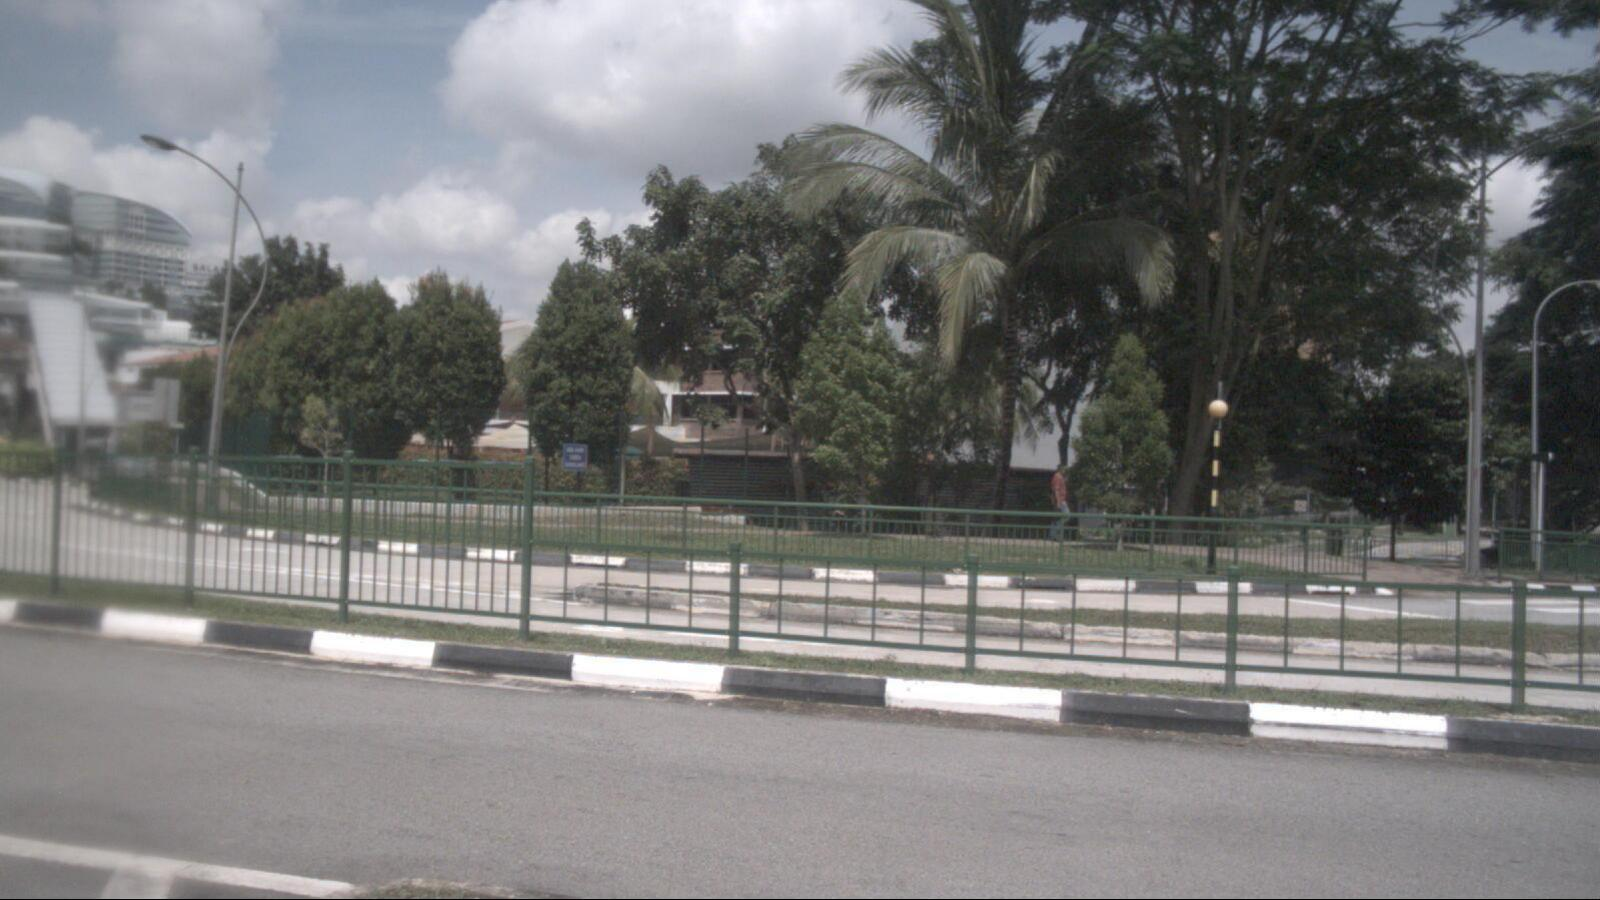human.pedestrian.adult-pedestrian.moving: (1047, 464, 1073, 543)
